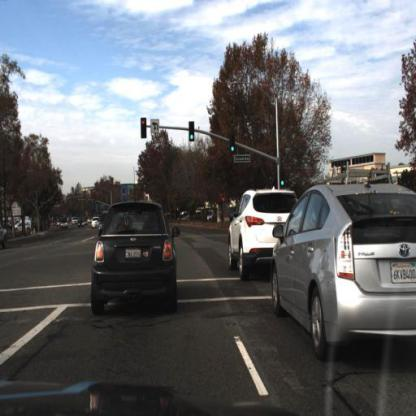car: (270, 154, 416, 379), (76, 190, 189, 343), (226, 184, 301, 281), (1, 205, 13, 260), (13, 220, 36, 245), (59, 216, 70, 234), (90, 214, 101, 231), (75, 219, 86, 232)
trafficLight-Green: (228, 134, 240, 165), (188, 119, 199, 151), (229, 131, 238, 154), (280, 171, 287, 192)
trafficLight-RedLeft: (138, 117, 148, 148)
